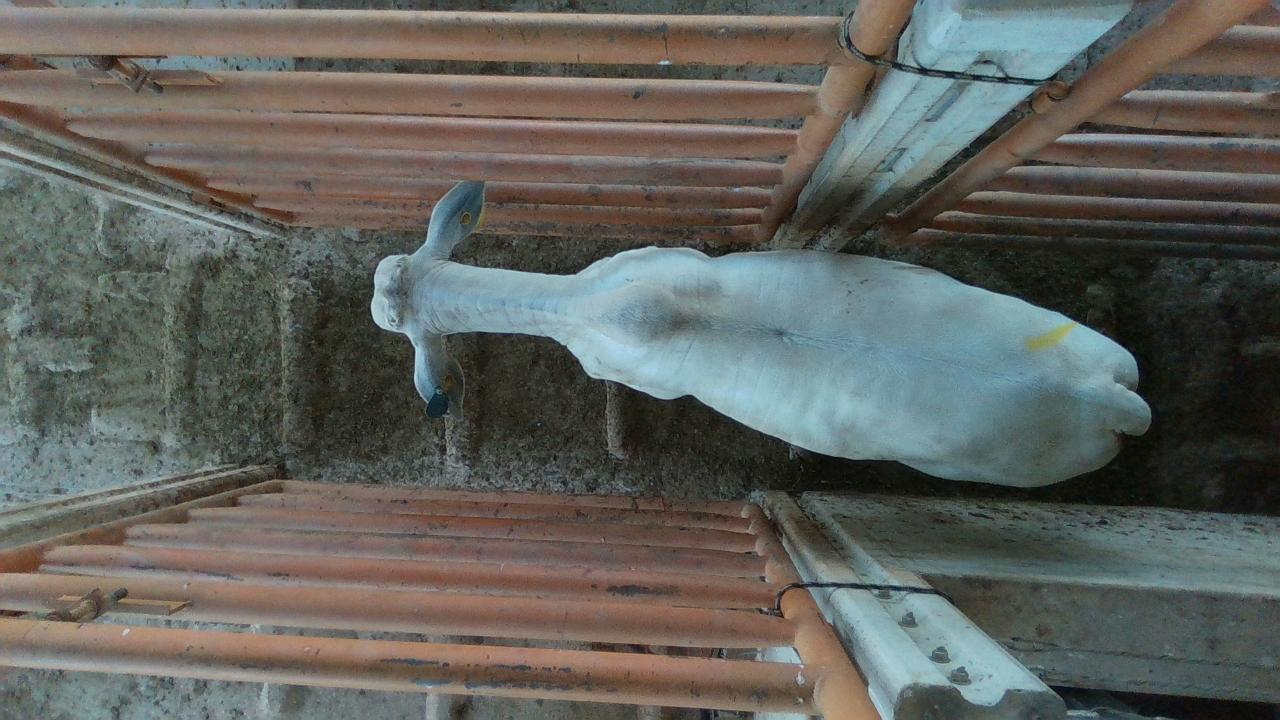cattle: (368, 177, 1152, 489)
